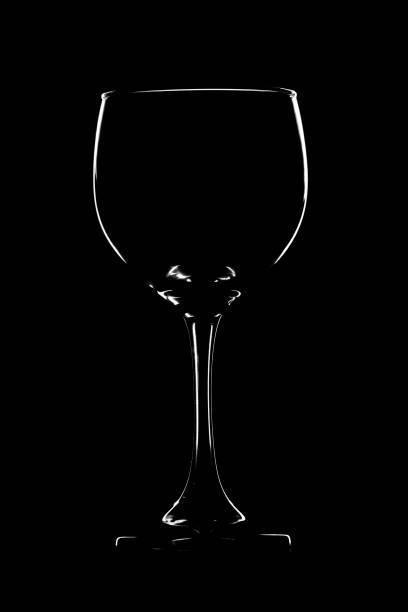glass-wine: (89, 84, 310, 541)
